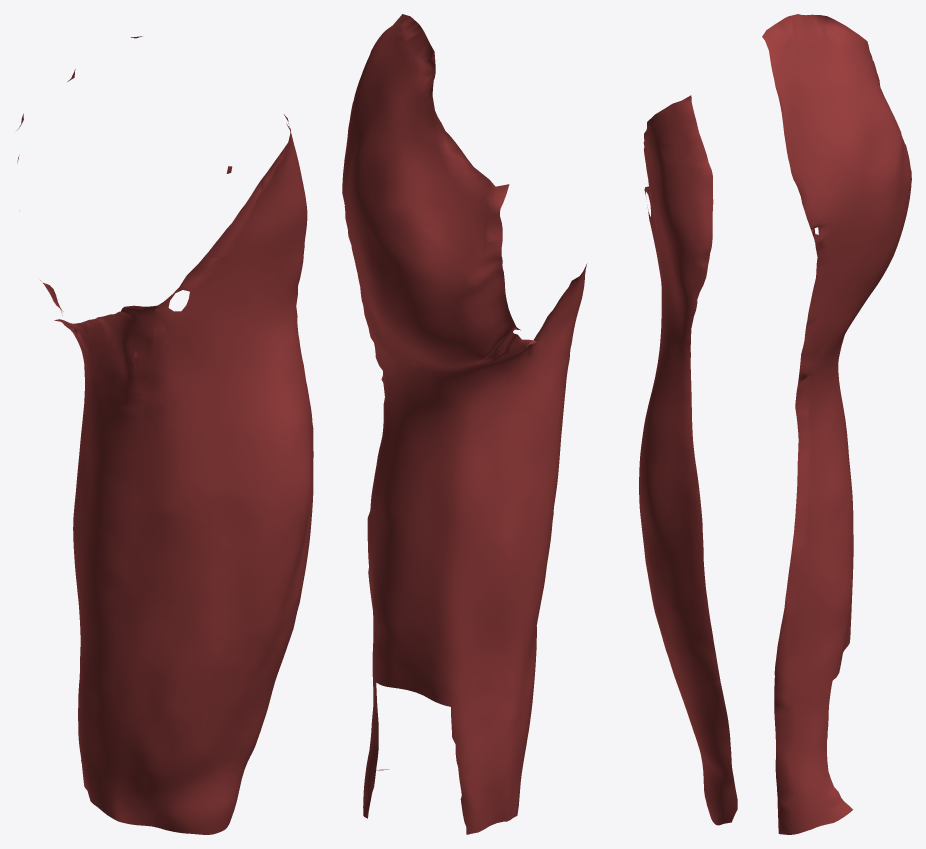
The model's file is fascia-lata-l.glb.
3 views of the same model, side by side, from view 1: azimuth 30°, elevation 25°; view 2: azimuth 150°, elevation 25°; view 3: azimuth 270°, elevation 25° (orthographic).
Visible parts, largest first — view 1: Fascia lata.l; view 2: Fascia lata.l; view 3: Fascia lata.l.
Boxes of the visible parts, x1=… form: Fascia lata.l: x1=16, y1=36, x2=313, y2=834; Fascia lata.l: x1=342, y1=14, x2=587, y2=834; Fascia lata.l: x1=639, y1=14, x2=911, y2=834.
Size of the model in its own units: 0.1593 by 0.5699 by 0.1751.
